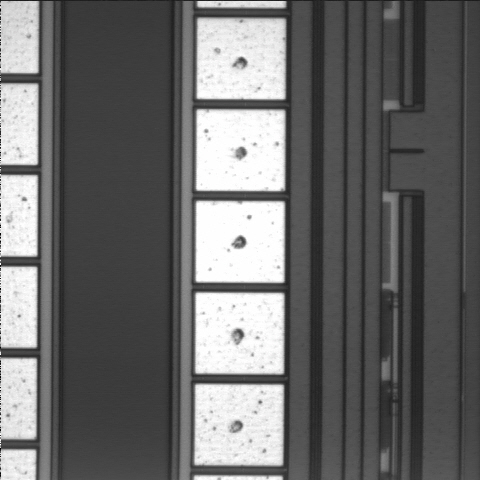pad: (196, 109, 285, 191), (196, 201, 285, 283), (194, 384, 283, 466), (195, 293, 284, 374), (197, 18, 285, 99)
